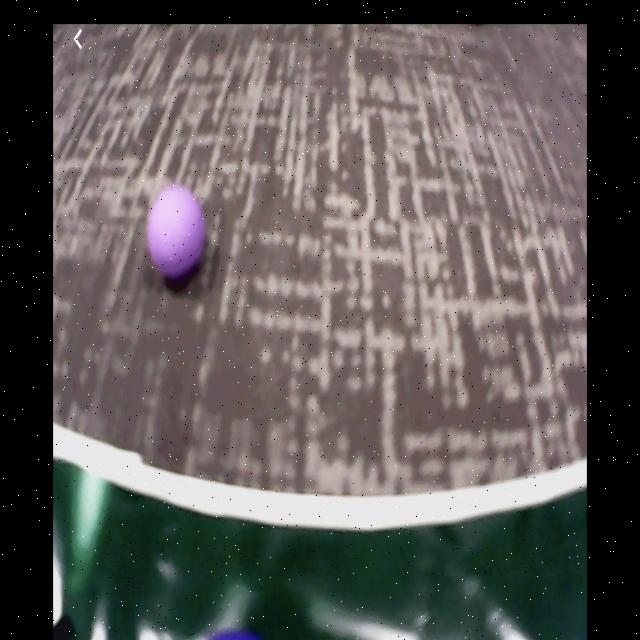ball: (150, 185, 207, 283)
